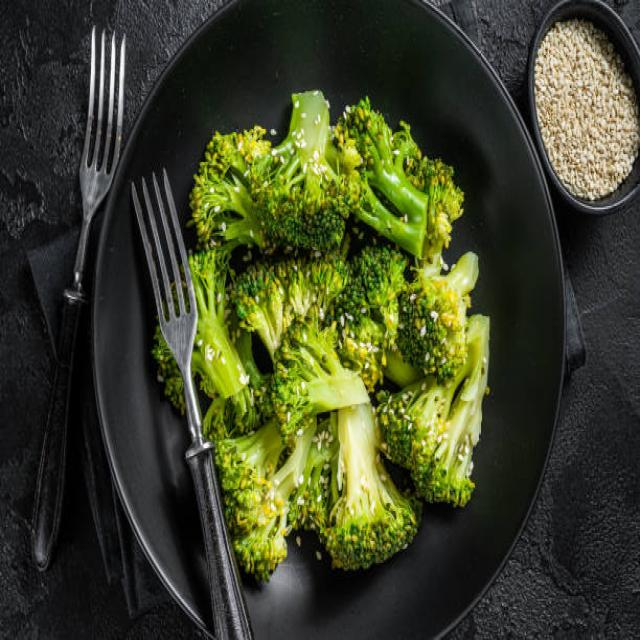broccoli: (388, 338, 496, 490), (330, 397, 407, 592), (255, 96, 348, 237), (228, 416, 312, 568), (279, 280, 362, 408)
